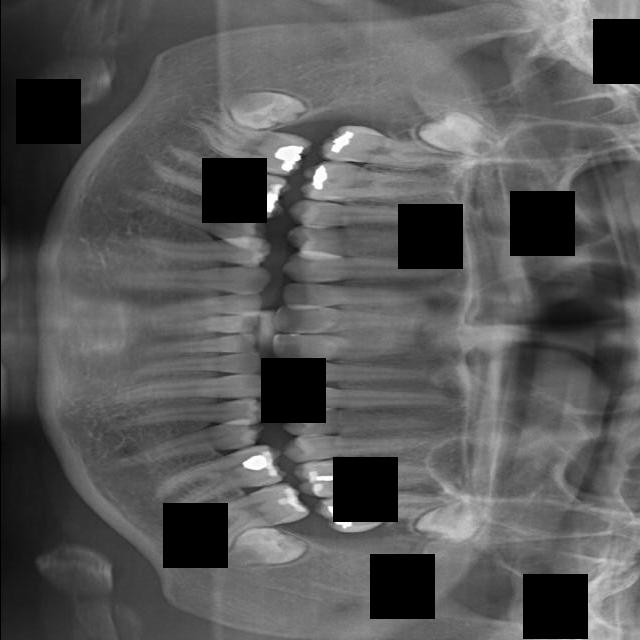3M ESPE Implant: (412, 99, 513, 168)
AGS Medikal Implant: (231, 545, 232, 545)
AMerOss Implant: (146, 437, 291, 522)
Amalgam filling: (461, 158, 462, 159)
Anthogyr Implant: (96, 417, 267, 472)
Bicon Implant: (102, 397, 271, 433)
BioHorizons Implant: (104, 373, 270, 405)
BioLife Implant: (126, 352, 263, 379)
Biomet 3i Implant: (136, 333, 258, 358)
Blue Sky Bio Implant: (142, 313, 261, 341)
Camlog Implant: (133, 291, 265, 325)
Caries: (276, 359, 444, 385)
Composite filling: (112, 261, 272, 294)
Cowellmedi Implant: (127, 232, 273, 268)
Crown: (108, 182, 273, 249)
DENTSPLY Implant: (298, 159, 458, 209)
Dentatus Implant: (142, 141, 293, 223)
Dentis Implant: (176, 103, 315, 182)
Dentium Implant: (223, 88, 309, 132)
Euroteknika Implant: (285, 198, 435, 237)
Filling: (283, 226, 440, 256)
Frontier Implant: (281, 251, 458, 290)
Hiossen Implant: (275, 380, 474, 413)
Implant: (271, 305, 431, 338)
Implant Direct: (277, 281, 440, 311)
Keystone Dental Implant: (271, 333, 429, 360)
MIS Implant: (280, 406, 441, 436)
Mandible: (282, 422, 439, 463)
Maxilla: (426, 473, 427, 474)
Megagen Implant: (314, 491, 454, 535)
Neodent Implant: (409, 487, 497, 561)
Neoss Implant: (220, 520, 311, 575)
